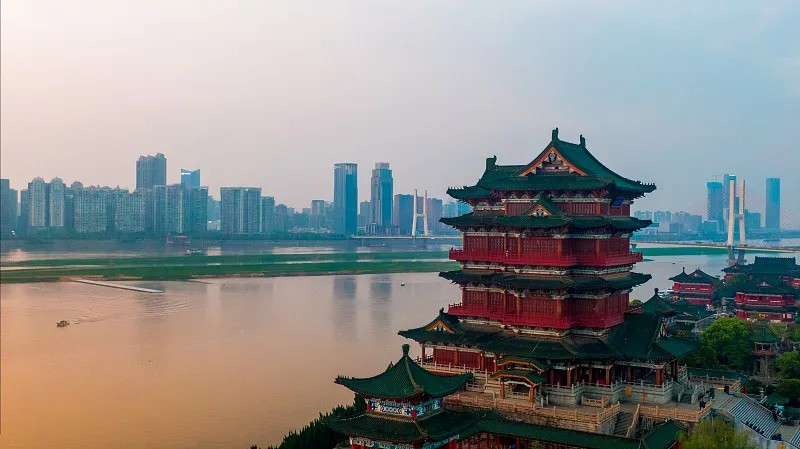Teng: (398, 127, 657, 405)
